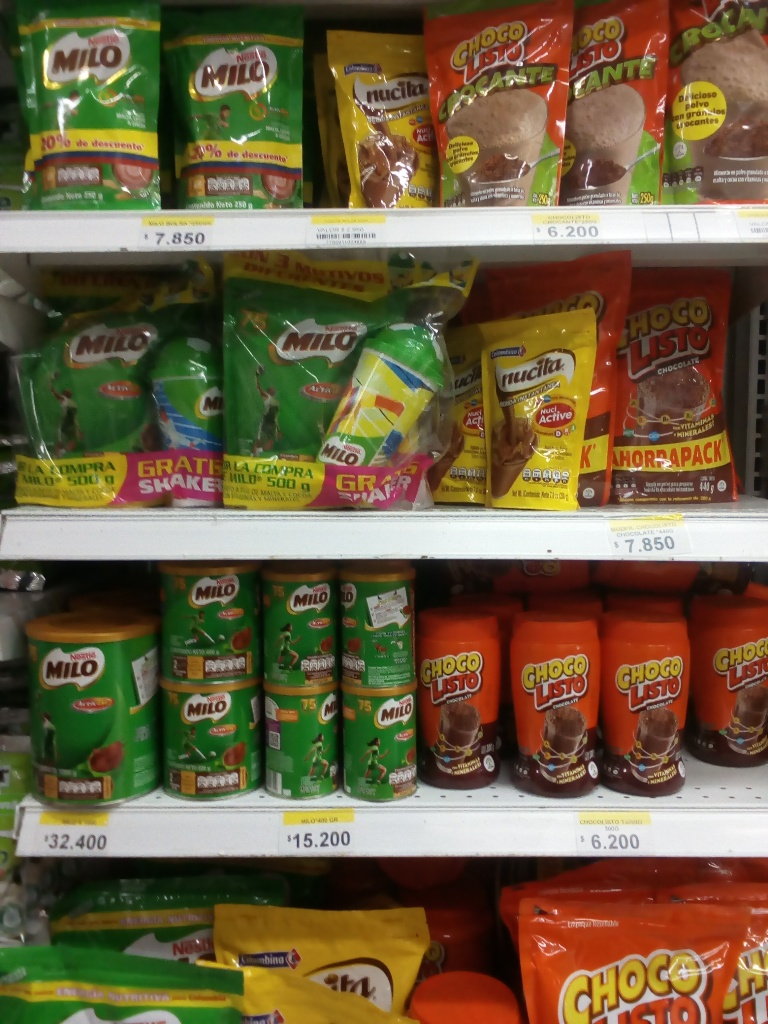COL0170102DYP50000: (665, 0, 768, 202)
COL0170103DYP44000: (622, 263, 743, 506)
COL0170103TRR30000: (687, 589, 768, 770)
COL0170203DYP50000: (218, 274, 343, 463)
COL0170203LAT20000: (334, 683, 422, 803)
COL0170203LAT40000: (157, 677, 265, 803)
